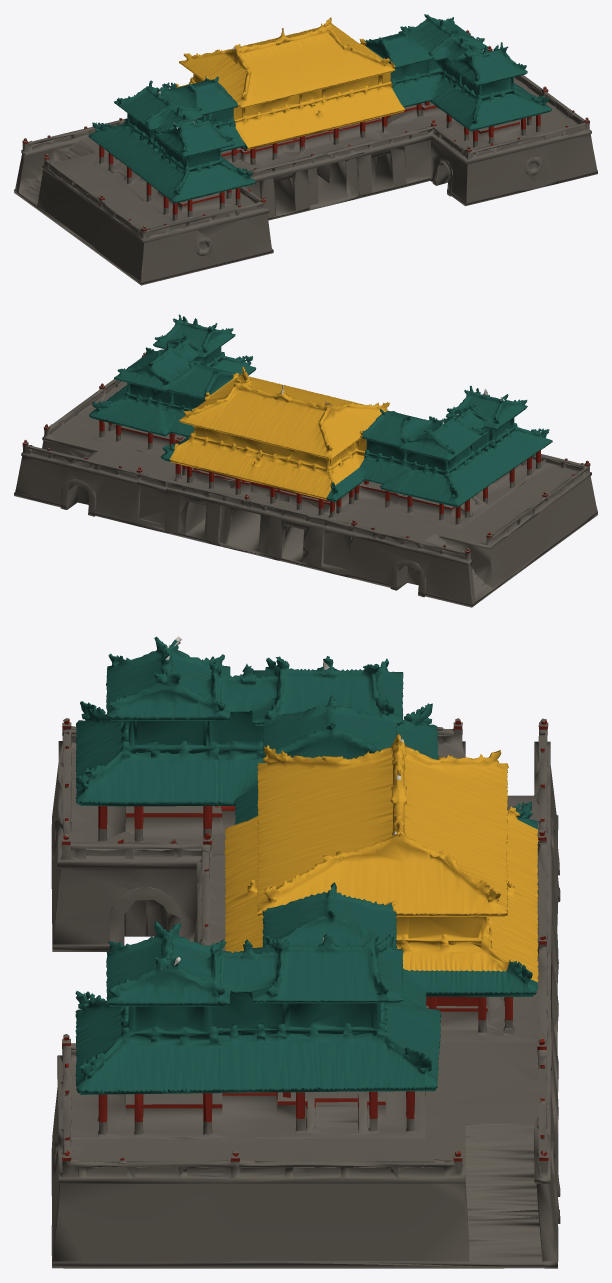
Rendered from ngo-mon-hue.glb.
3 renders of one model, top to bottom at view 1: azimuth 30°, elevation 25°; view 2: azimuth 150°, elevation 25°; view 3: azimuth 270°, elevation 25°, orthographic. The views are drawn at different scales.
Parts seen in each view (by area): view 1: NgoMon_Base, NgoMon_ThanhLuuLy, NgoMon_HoangLuuLy, NgoMon_Wood; view 2: NgoMon_Base, NgoMon_ThanhLuuLy, NgoMon_HoangLuuLy, NgoMon_Wood; view 3: NgoMon_Base, NgoMon_ThanhLuuLy, NgoMon_HoangLuuLy, NgoMon_Wood.
Part boxes in pixels (left/top/right/bottom): NgoMon_Base: left=14, top=30, right=597, bottom=285; NgoMon_ThanhLuuLy: left=88, top=14, right=551, bottom=203; NgoMon_HoangLuuLy: left=176, top=17, right=404, bottom=149; NgoMon_Wood: left=22, top=30, right=589, bottom=230; NgoMon_Base: left=14, top=352, right=597, bottom=607; NgoMon_ThanhLuuLy: left=89, top=314, right=552, bottom=507; NgoMon_HoangLuuLy: left=169, top=367, right=391, bottom=500; NgoMon_Wood: left=22, top=353, right=590, bottom=553; NgoMon_Base: left=51, top=718, right=560, bottom=1268; NgoMon_ThanhLuuLy: left=75, top=636, right=538, bottom=1094; NgoMon_HoangLuuLy: left=224, top=734, right=538, bottom=982; NgoMon_Wood: left=61, top=719, right=548, bottom=1161.
Size of the model in its own units: 3.41 by 1 by 1.64.
